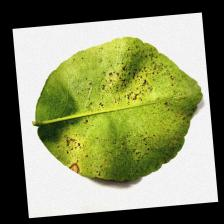canker: (60, 58, 173, 167)
